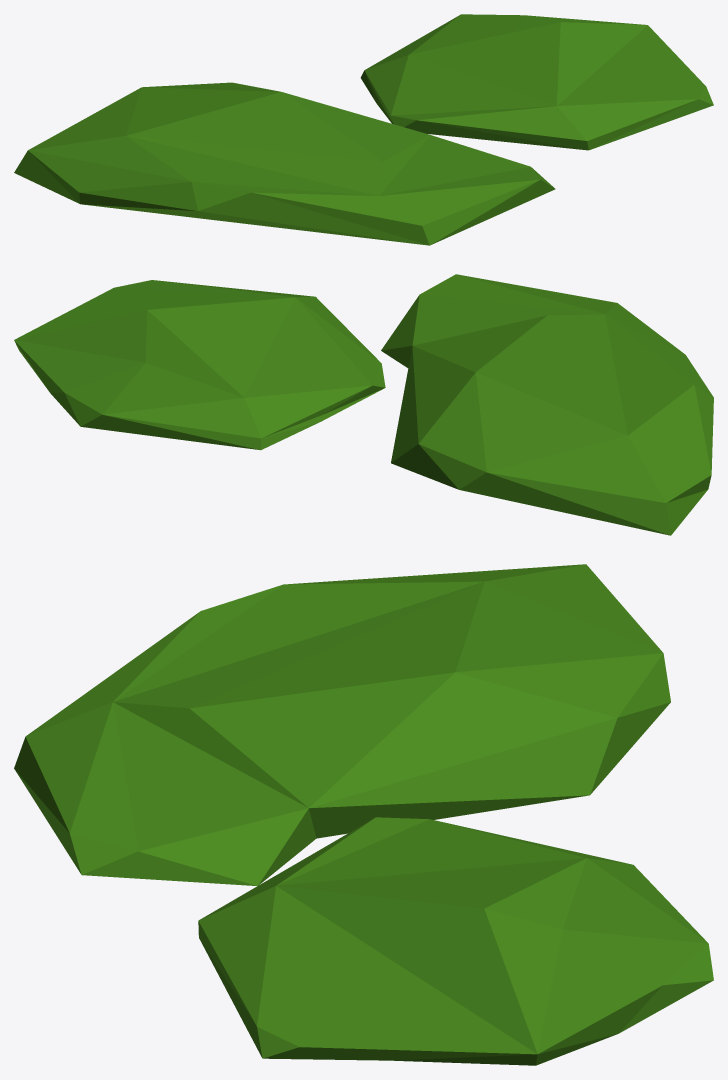
Rendered from Grass_01.FBX.
3 views of the same model, one above another, from view 1: azimuth 30°, elevation 25°; view 2: azimuth 150°, elevation 25°; view 3: azimuth 270°, elevation 25° (orthographic). The views are drawn at different scales.
Parts seen in each view (by area): view 1: GrassDuneSmall_001, GrassDuneSmall_002; view 2: GrassDuneSmall_001, GrassDuneSmall_002; view 3: GrassDuneSmall_001, GrassDuneSmall_002.
Boxes of the visible parts, x1,y1,x2,y2 form: GrassDuneSmall_001: [14, 82, 555, 245]; GrassDuneSmall_002: [360, 14, 713, 150]; GrassDuneSmall_001: [381, 274, 713, 535]; GrassDuneSmall_002: [14, 280, 385, 450]; GrassDuneSmall_001: [14, 564, 670, 885]; GrassDuneSmall_002: [198, 817, 713, 1065].
Size of the model in its own units: 9.72 by 0.9546 by 5.99.
